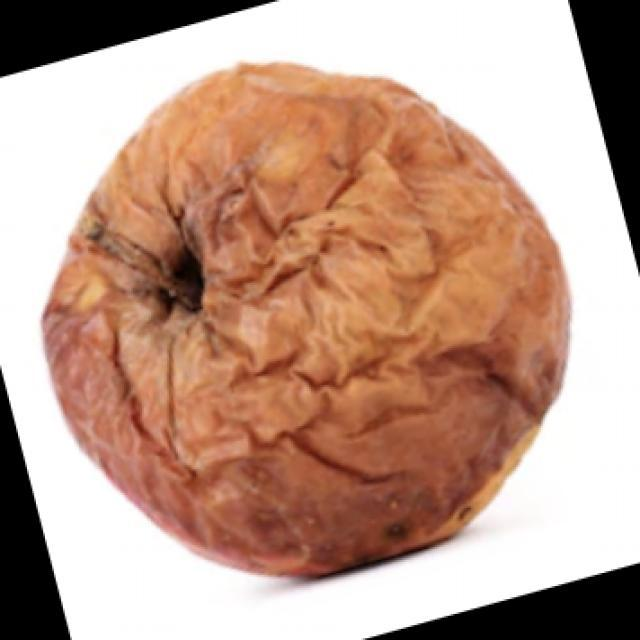Rotten: (41, 59, 572, 591)
